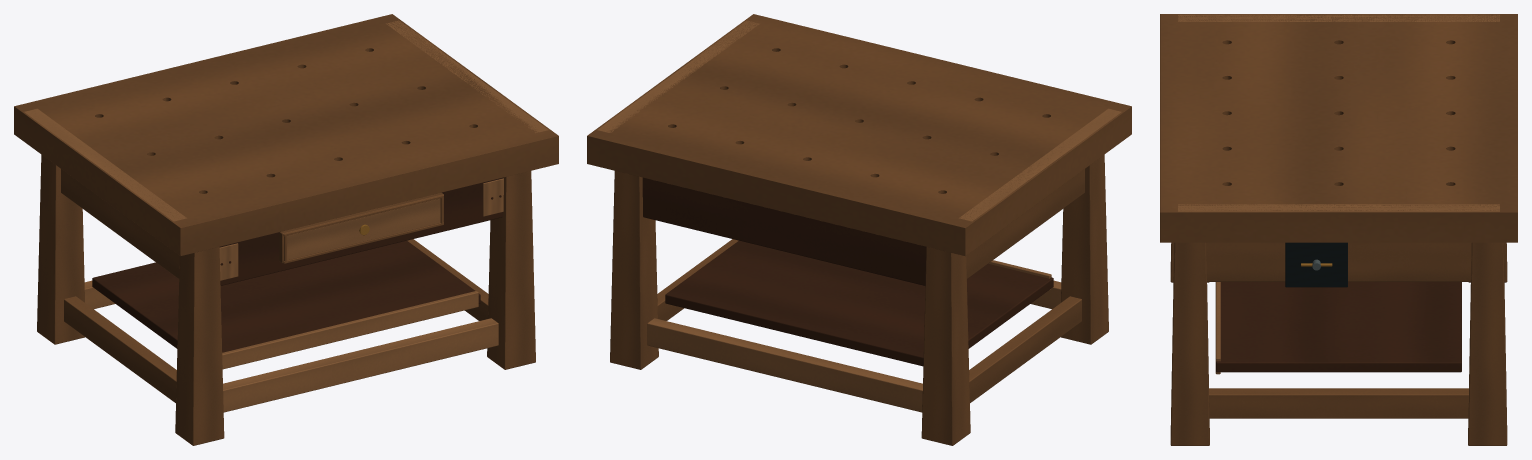
The model's file is asset.glb.
3 renders of one model, left to right at view 1: azimuth 30°, elevation 25°; view 2: azimuth 150°, elevation 25°; view 3: azimuth 270°, elevation 25°, orthographic. The views are drawn at different scales.
Visible parts, largest first — view 1: MaterialBatch_Room_furniture_quarter-sawn_oak, MaterialBatch_Room_furniture_smoked_walnut, MaterialBatch_Room_furniture_light_oak; view 2: MaterialBatch_Room_furniture_quarter-sawn_oak, MaterialBatch_Room_furniture_smoked_walnut, MaterialBatch_Room_furniture_light_oak; view 3: MaterialBatch_Room_furniture_quarter-sawn_oak, MaterialBatch_Room_furniture_smoked_walnut, MaterialBatch_Room_furniture_light_oak, Assembly table end vise plate.
Part boxes in pixels (left/top/right/bottom): MaterialBatch_Room_furniture_quarter-sawn_oak: left=14, top=14, right=558, bottom=445; MaterialBatch_Room_furniture_smoked_walnut: left=92, top=177, right=502, bottom=352; MaterialBatch_Room_furniture_light_oak: left=24, top=20, right=548, bottom=412; MaterialBatch_Room_furniture_quarter-sawn_oak: left=587, top=14, right=1131, bottom=445; MaterialBatch_Room_furniture_smoked_walnut: left=642, top=177, right=1053, bottom=366; MaterialBatch_Room_furniture_light_oak: left=597, top=20, right=1121, bottom=412; MaterialBatch_Room_furniture_quarter-sawn_oak: left=1160, top=14, right=1517, bottom=445; MaterialBatch_Room_furniture_smoked_walnut: left=1216, top=282, right=1461, bottom=372; MaterialBatch_Room_furniture_light_oak: left=1178, top=14, right=1499, bottom=374; Assembly table end vise plate: left=1285, top=242, right=1347, bottom=287.
Size of the model in its own units: 42 by 24 by 32.
6 materials, 6 textured.
